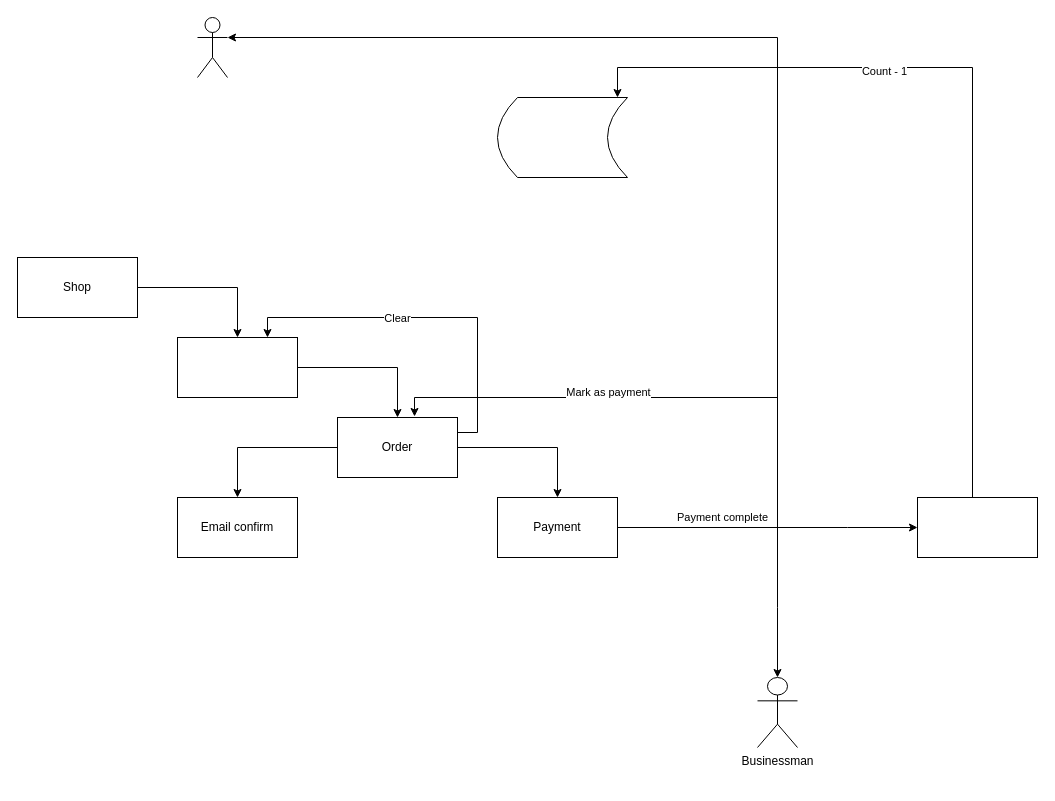
The diagram is 1055 pixels wide and 801 high, and some of its shapes have lost their labels. Each missing label, with the centre of its shape:
"Cart" goes at [237,367].
"Client" goes at [212,47].
"Delivery" goes at [977,527].
